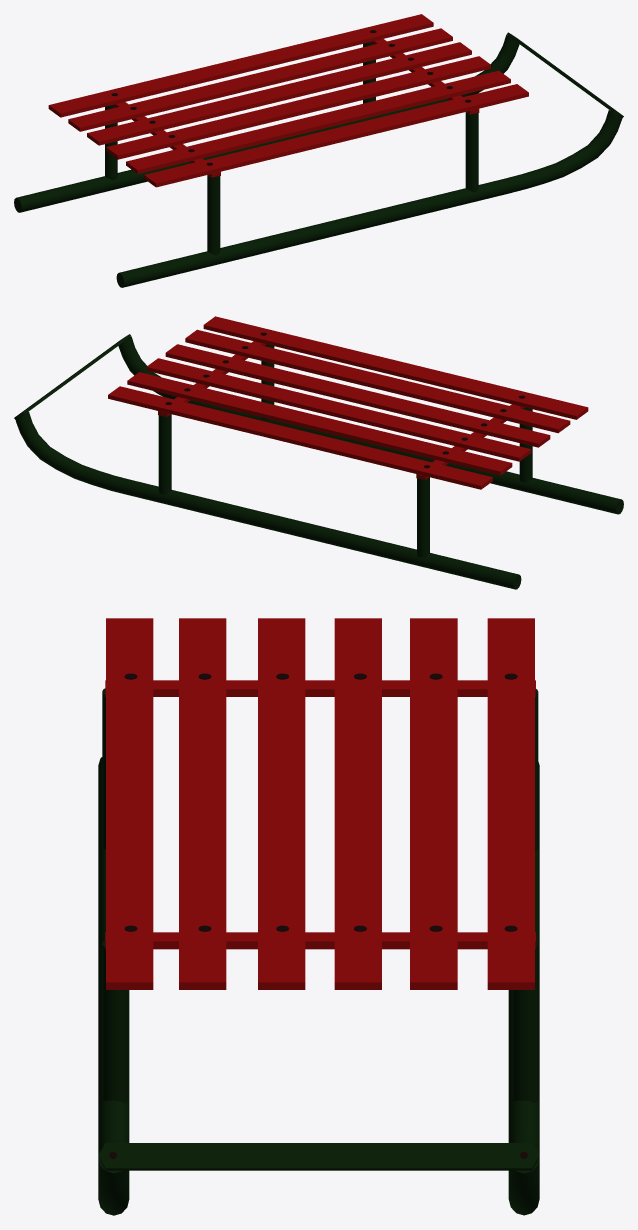
The model's file is sled.fbx.
The picture shows the model from 3 angles, top to bottom: view 1: azimuth 30°, elevation 25°; view 2: azimuth 150°, elevation 25°; view 3: azimuth 270°, elevation 25°; orthographic projection. The views are drawn at different scales.
Parts seen in each view (by area): view 1: boards, skis, support, crossbar, crossbar1; view 2: boards, skis, support, crossbar, crossbar1; view 3: boards, crossbar1, skis, support, crossbar, nails.
Boxes of the visible parts, x1=… form: boards: x1=48, y1=14, x2=528, y2=187; skis: x1=14, y1=35, x2=621, y2=287; support: x1=105, y1=42, x2=478, y2=255; crossbar: x1=112, y1=39, x2=479, y2=177; crossbar1: x1=506, y1=32, x2=623, y2=118; boards: x1=108, y1=316, x2=588, y2=489; skis: x1=15, y1=336, x2=623, y2=589; support: x1=158, y1=344, x2=532, y2=557; crossbar: x1=158, y1=341, x2=524, y2=480; crossbar1: x1=14, y1=334, x2=131, y2=419; boards: x1=106, y1=618, x2=534, y2=989; crossbar1: x1=98, y1=1143, x2=539, y2=1170; skis: x1=98, y1=757, x2=539, y2=1215; support: x1=102, y1=688, x2=538, y2=1102; crossbar: x1=105, y1=680, x2=535, y2=949; nails: x1=109, y1=673, x2=527, y2=1158.
Size of the model in its own units: 269 by 49.9 by 102.
